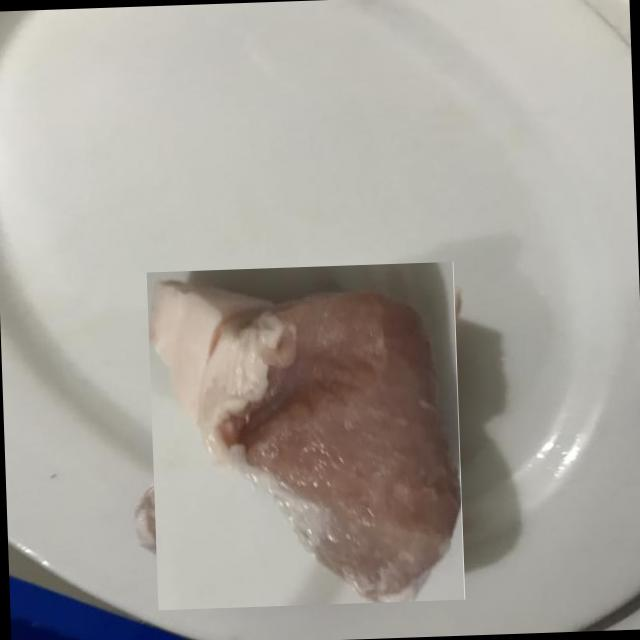chicken: (138, 269, 472, 603)
